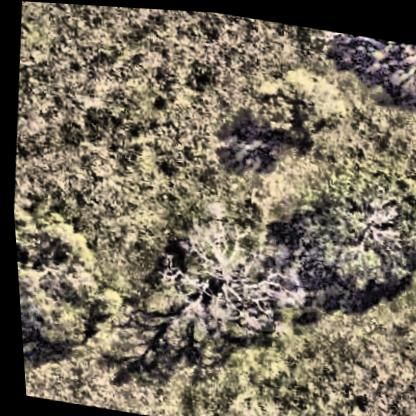tree-top: (141, 196, 311, 366), (10, 188, 130, 383), (285, 140, 416, 309), (242, 54, 349, 153), (351, 31, 416, 110)
